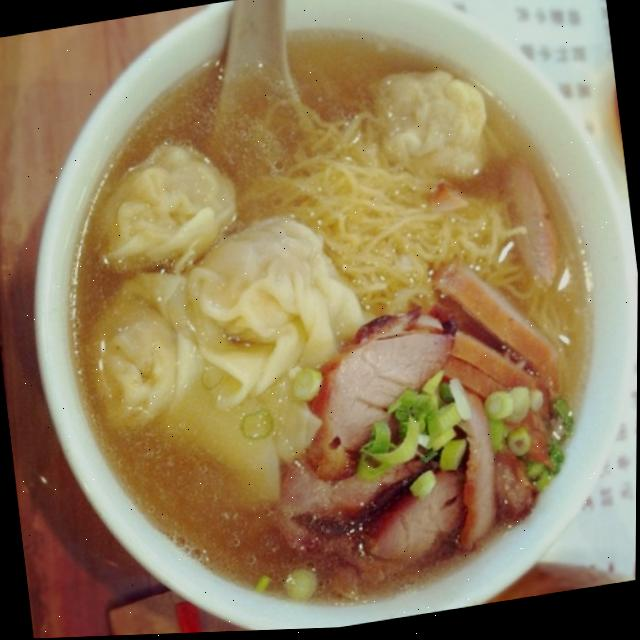汤锅炖物: (30, 9, 623, 633)
